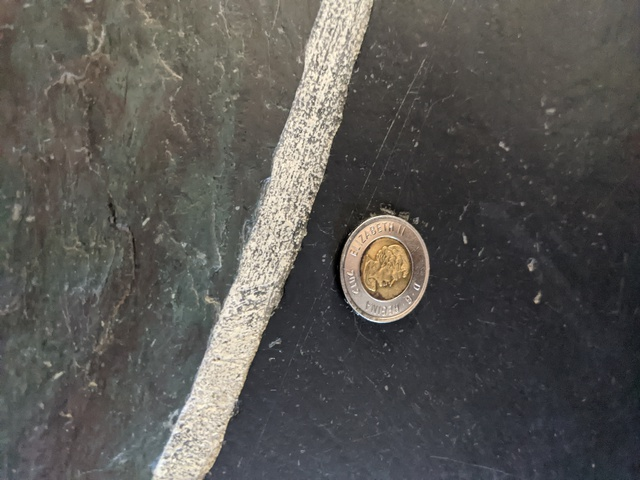twonie: (320, 203, 437, 331)
